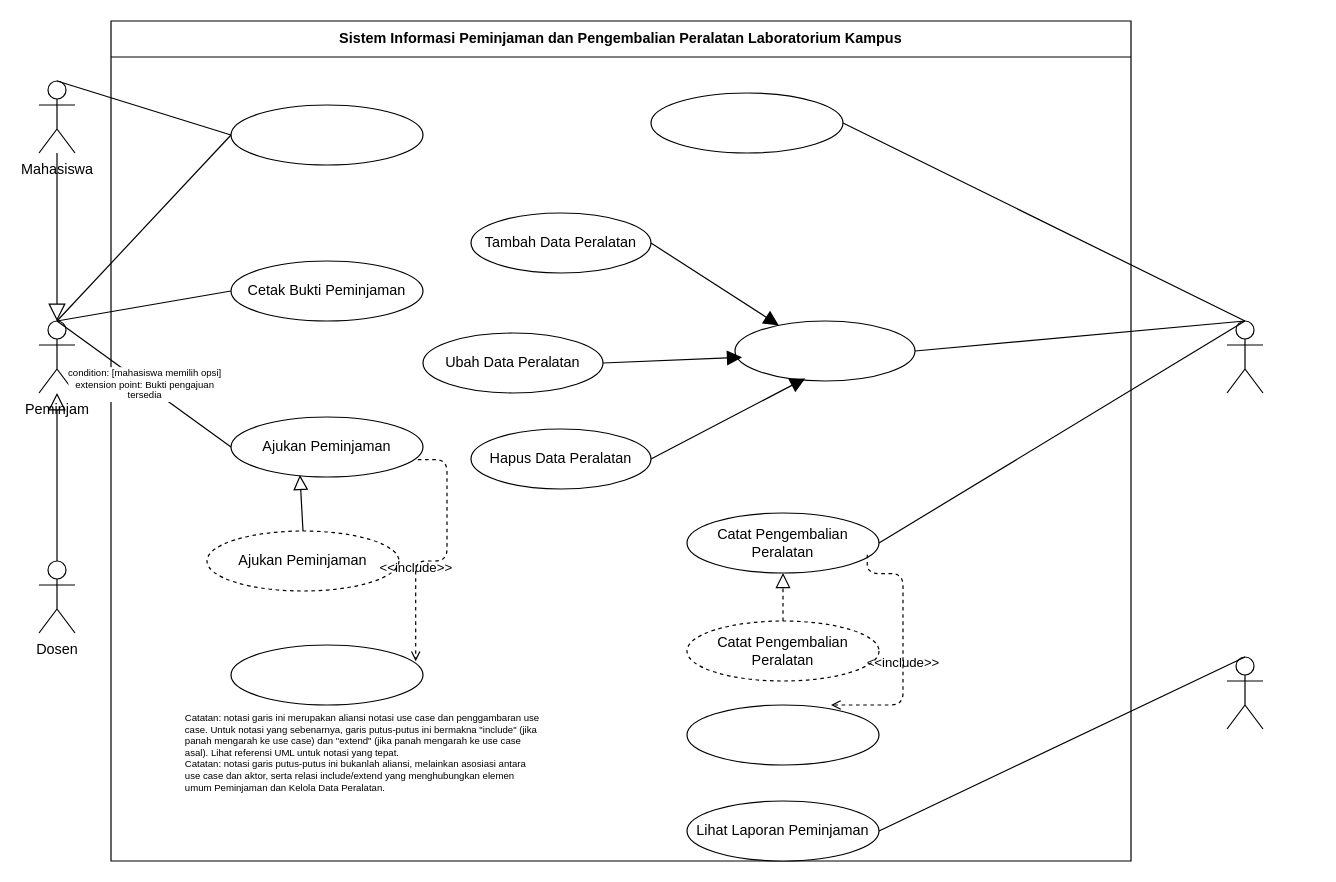
Some shapes in this 1336 by 882 pixel diagram are drawn without their labels. Here are the shapes that lost their labels. From the top down, the box of each, then its label:
(230, 104, 423, 165): Lihat Ketersediaan Peralatan
(650, 92, 843, 153): Proses Keputusan Peminjaman
(734, 320, 915, 381): Kelola Data Peralatan
(1226, 320, 1263, 393): Petugas Laboratorium
(230, 644, 423, 705): Periksa Ketersediaan
(1226, 656, 1263, 729): Kepala Laboratorium
(686, 704, 879, 765): Periksa Kondisi Peralatan
